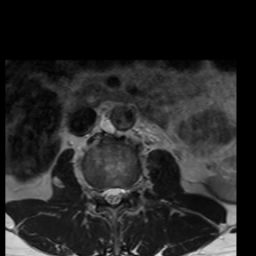CCS_normal: (110, 180, 117, 213)
LFS_stenosis: (126, 180, 135, 205)
LLS_normal: (117, 181, 125, 206)
RFS_stenosis: (95, 181, 103, 208)
RLS_normal: (103, 181, 110, 208)
